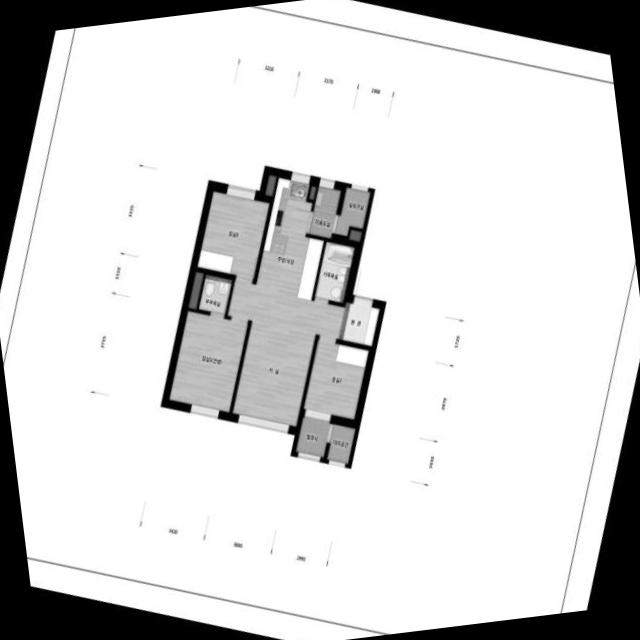background: (0, 0, 640, 640)
space_balconi: (295, 415, 330, 457)
space_bedroom: (168, 310, 247, 412), (196, 191, 268, 278), (302, 339, 368, 419)
space_front: (337, 297, 379, 345)
space_kitchen: (254, 177, 323, 300)
space_living_room: (226, 279, 344, 426)
space_multipurpose_space: (308, 185, 340, 238)
space_other: (326, 423, 354, 463), (187, 271, 203, 309), (264, 174, 276, 196), (348, 229, 361, 241), (308, 186, 315, 199)
space_outdoor_room: (334, 186, 369, 236)
space_toilet: (313, 241, 354, 302), (198, 274, 231, 314)
